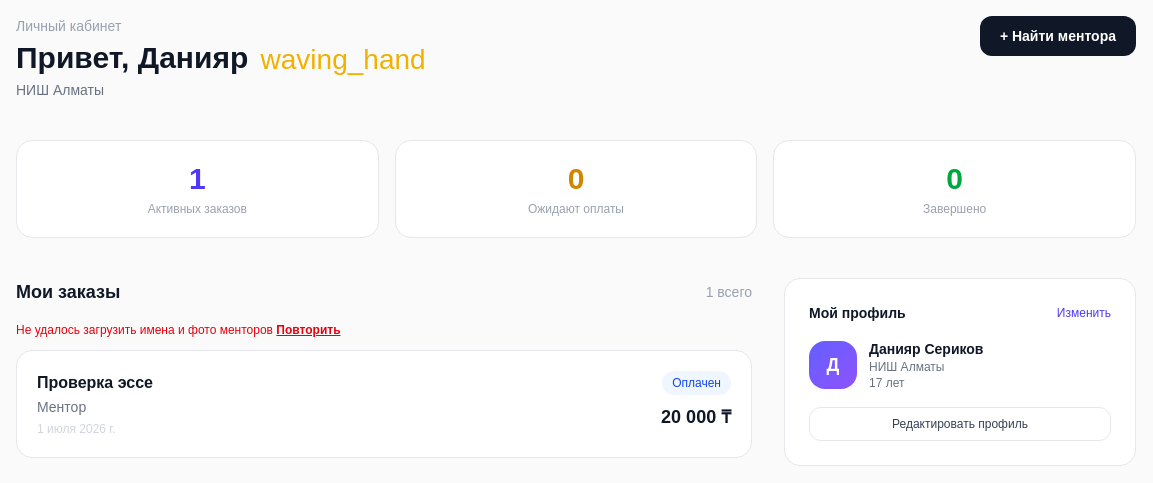
it: StudentDashboard › authenticated student › falls back to a generic label and shows a retryable error when the mentor lookup fails
Expected: the heading "Проверка эссе" is shown, [37,374,153,391]
Expected: the text "Ментор" is shown, [37,399,86,415]
Click the button "Повторить" at (308, 330), box [276,322,340,338]
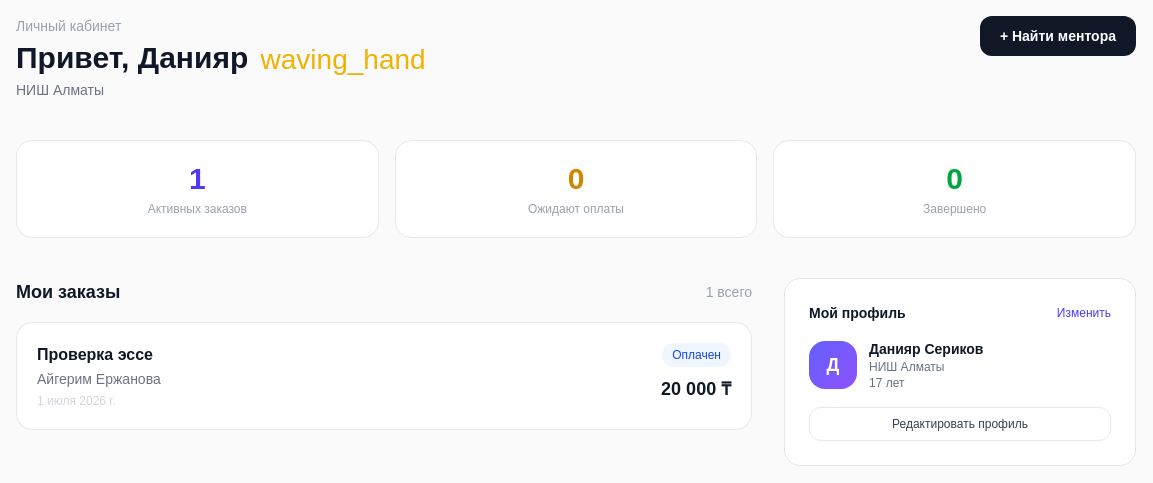
Expected: the text "Айгерим Ержанова" is shown, [37,371,161,387]
